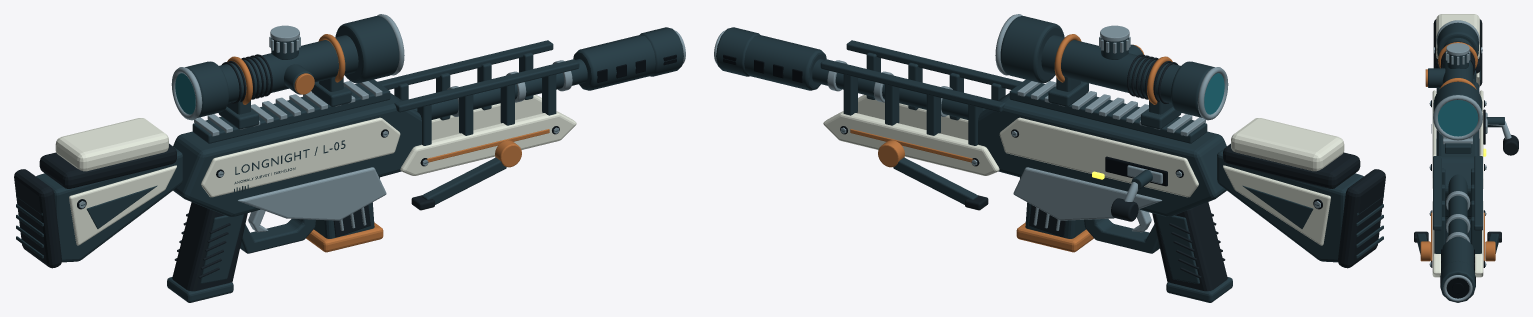
File: 05_Longnight_Sniper.glb
3 renders of one model, left to right at view 1: azimuth 30°, elevation 25°; view 2: azimuth 150°, elevation 25°; view 3: azimuth 270°, elevation 25°, orthographic. The views are drawn at different scales.
Visible parts, largest first — view 1: 05_Longnight_Sniper__body, 05_Longnight_Sniper__stock, 05_Longnight_Sniper__optic, 05_Longnight_Sniper__magazine, 05_Longnight_Sniper__support; view 2: 05_Longnight_Sniper__body, 05_Longnight_Sniper__stock, 05_Longnight_Sniper__optic, 05_Longnight_Sniper__magazine, 05_Longnight_Sniper__support, 05_Longnight_Sniper__bolt; view 3: 05_Longnight_Sniper__body, 05_Longnight_Sniper__optic, 05_Longnight_Sniper__stock, 05_Longnight_Sniper__support, 05_Longnight_Sniper__bolt, 05_Longnight_Sniper__magazine.
Part boxes in pixels (bbox=[...]): 05_Longnight_Sniper__body: bbox=[167, 27, 685, 302]; 05_Longnight_Sniper__stock: bbox=[14, 118, 182, 268]; 05_Longnight_Sniper__optic: bbox=[171, 14, 404, 129]; 05_Longnight_Sniper__magazine: bbox=[306, 202, 383, 252]; 05_Longnight_Sniper__support: bbox=[411, 140, 521, 210]; 05_Longnight_Sniper__body: bbox=[714, 27, 1232, 302]; 05_Longnight_Sniper__stock: bbox=[1217, 118, 1385, 268]; 05_Longnight_Sniper__optic: bbox=[995, 14, 1228, 129]; 05_Longnight_Sniper__magazine: bbox=[1016, 202, 1093, 252]; 05_Longnight_Sniper__support: bbox=[878, 140, 988, 210]; 05_Longnight_Sniper__bolt: bbox=[1111, 165, 1162, 221]; 05_Longnight_Sniper__body: bbox=[1429, 82, 1486, 302]; 05_Longnight_Sniper__optic: bbox=[1425, 20, 1482, 140]; 05_Longnight_Sniper__stock: bbox=[1433, 14, 1482, 87]; 05_Longnight_Sniper__support: bbox=[1414, 231, 1501, 261]; 05_Longnight_Sniper__bolt: bbox=[1485, 112, 1518, 155]; 05_Longnight_Sniper__magazine: bbox=[1445, 219, 1470, 243].
Size of the model in its own units: 4.07 by 1.42 by 0.715.
